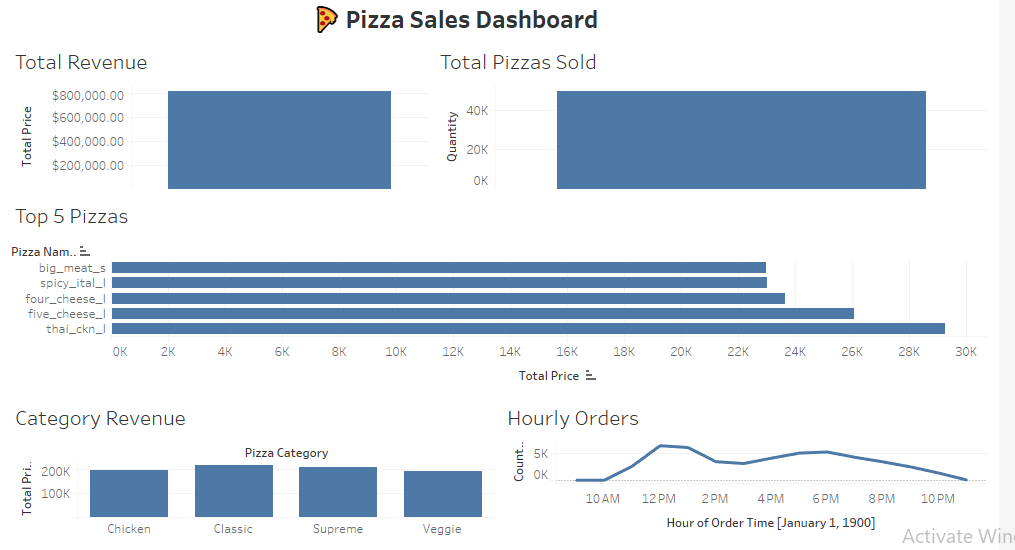

What the dashboard file says about the page in this screenshot:
{"tool":"tableau","page":{"name":"Dashboard 1","canvas":[1000,1000],"units":"permille","ordinal":0},"visuals":[{"type":"title","box":[8,14.3,984,73.2]},{"type":"worksheet","title":"Total Revenue","mark":"Automatic","rows":["total_price"],"box":[8,87.5,425,274.3]},{"type":"worksheet","title":"Total Pizzas Sold","mark":"Automatic","rows":["quantity"],"box":[433,87.5,559,274.3]},{"type":"worksheet","title":"Top 5 Pizzas","mark":"Automatic","rows":["pizza_name_id"],"cols":["total_price"],"box":[8,361.8,984,361.3]},{"type":"worksheet","title":"Category Revenue","mark":"Automatic","rows":["total_price"],"cols":["pizza_category"],"box":[8,723.1,492,262.6]},{"type":"worksheet","title":"Hourly Orders","mark":"Automatic","rows":["order_id"],"cols":["order_time"],"box":[500,723.1,492,262.6]}]}

Visuals, with their boxes on the dashboard's canvas, which has no fixed pixel size, in thousandths of its width and height (x1, y1, x2, y2). These are canvas units, not pixel positions in the 1015x550 screenshot, which may show the page scaled, cropped or inside an application window:
title: (8, 14, 992, 88)
"Total Revenue" worksheet: (8, 88, 433, 362)
"Total Pizzas Sold" worksheet: (433, 88, 992, 362)
"Top 5 Pizzas" worksheet: (8, 362, 992, 723)
"Category Revenue" worksheet: (8, 723, 500, 986)
"Hourly Orders" worksheet: (500, 723, 992, 986)
